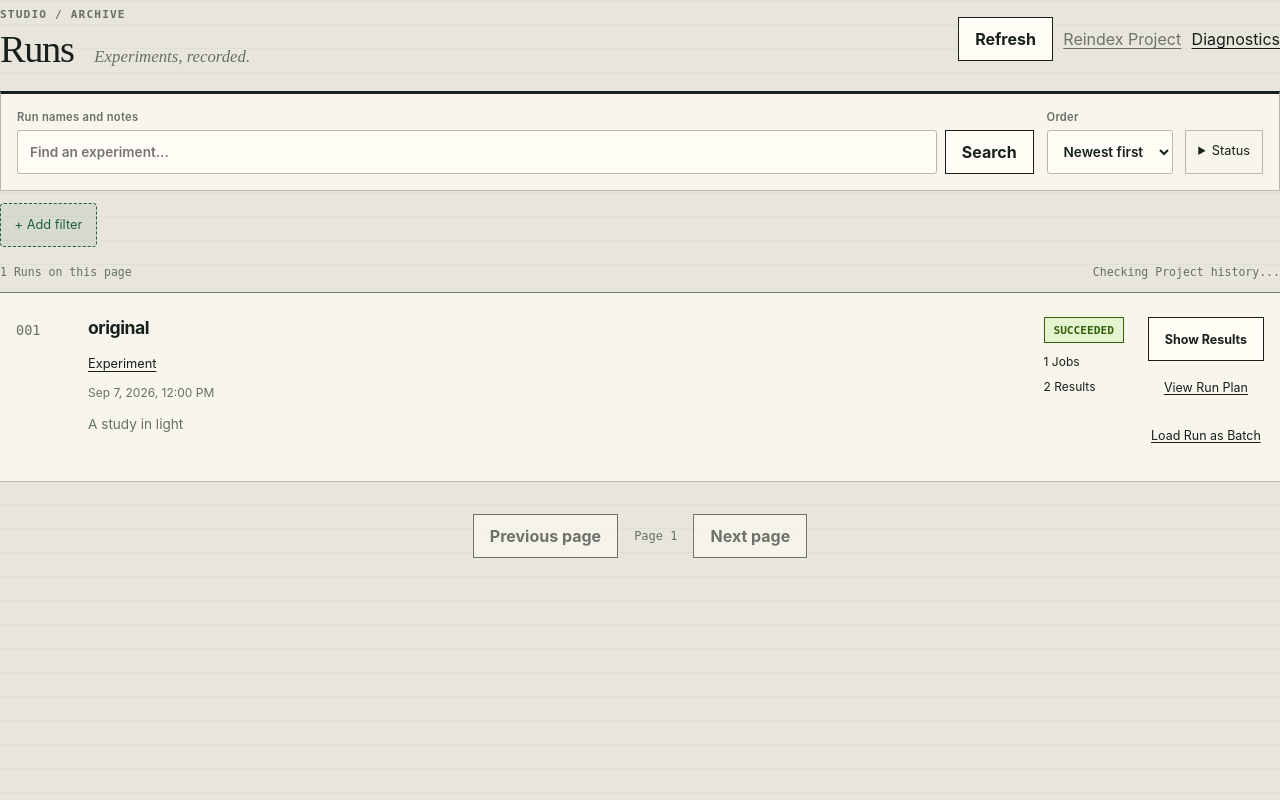
Test case: ProjectBrowser › offers an execution-independent frozen setup after runs inspection fails
This screenshot has width=1280, height=800.
Click the button "View Run Plan" at [1206, 387], box [1148,365,1264,409]
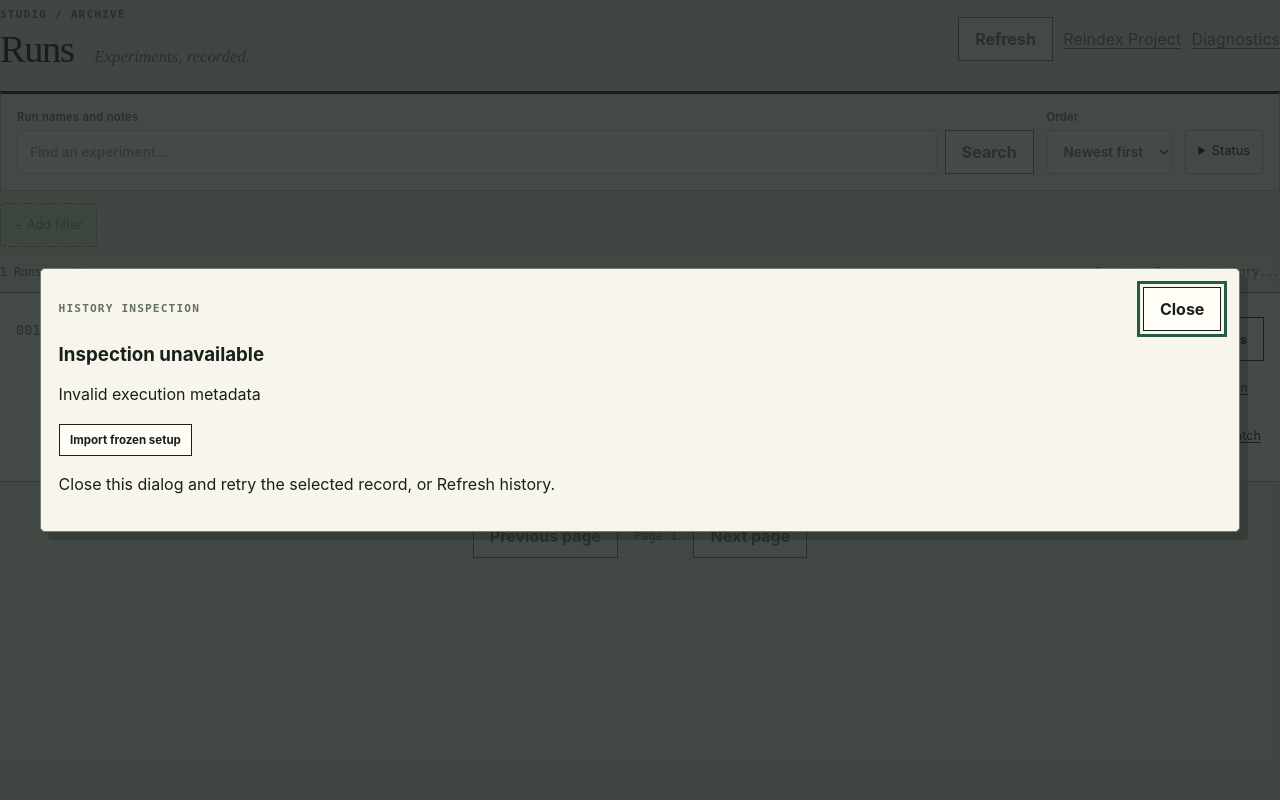
Click the button "Import frozen setup" at [125, 440], box [59,424,192,456]
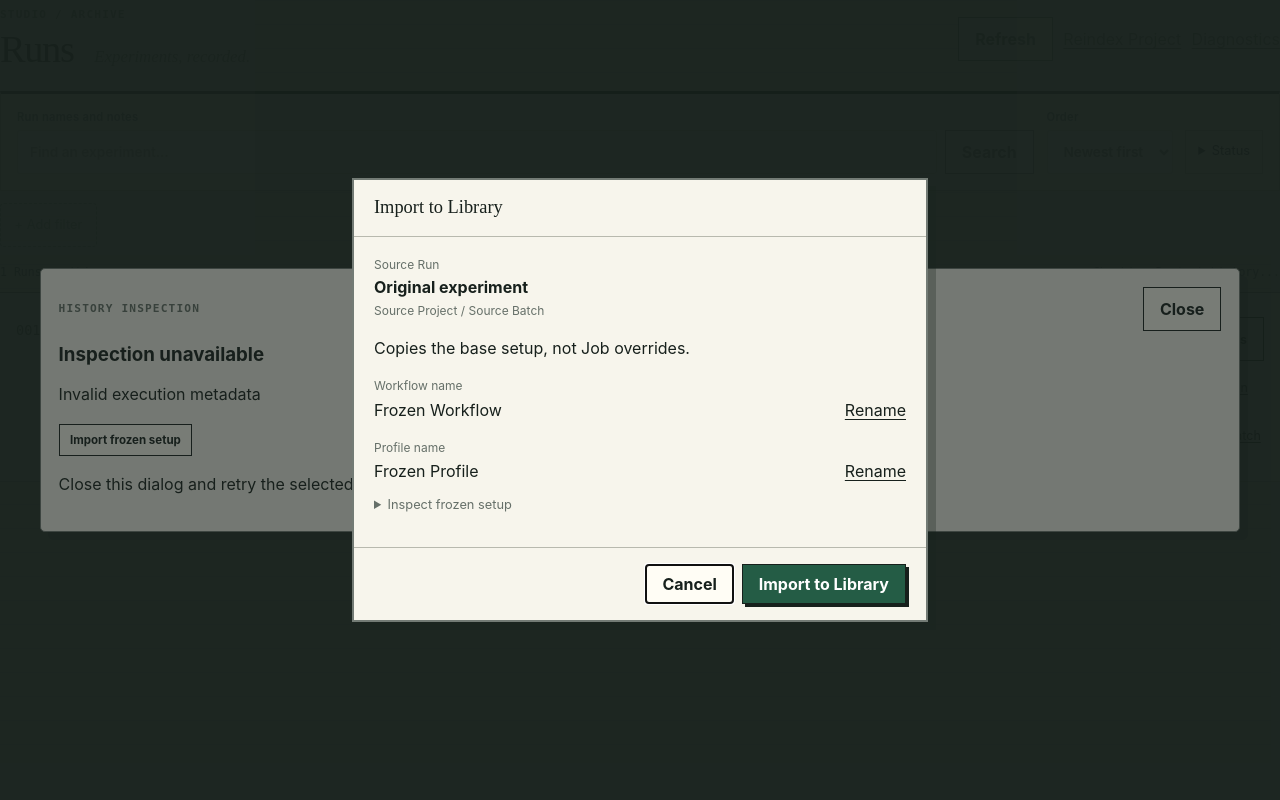
Check: the text "Frozen Workflow" is shown, box [374,400,502,420]
Click the button "Import to Library" at [824, 584], box [742,564,906,604]
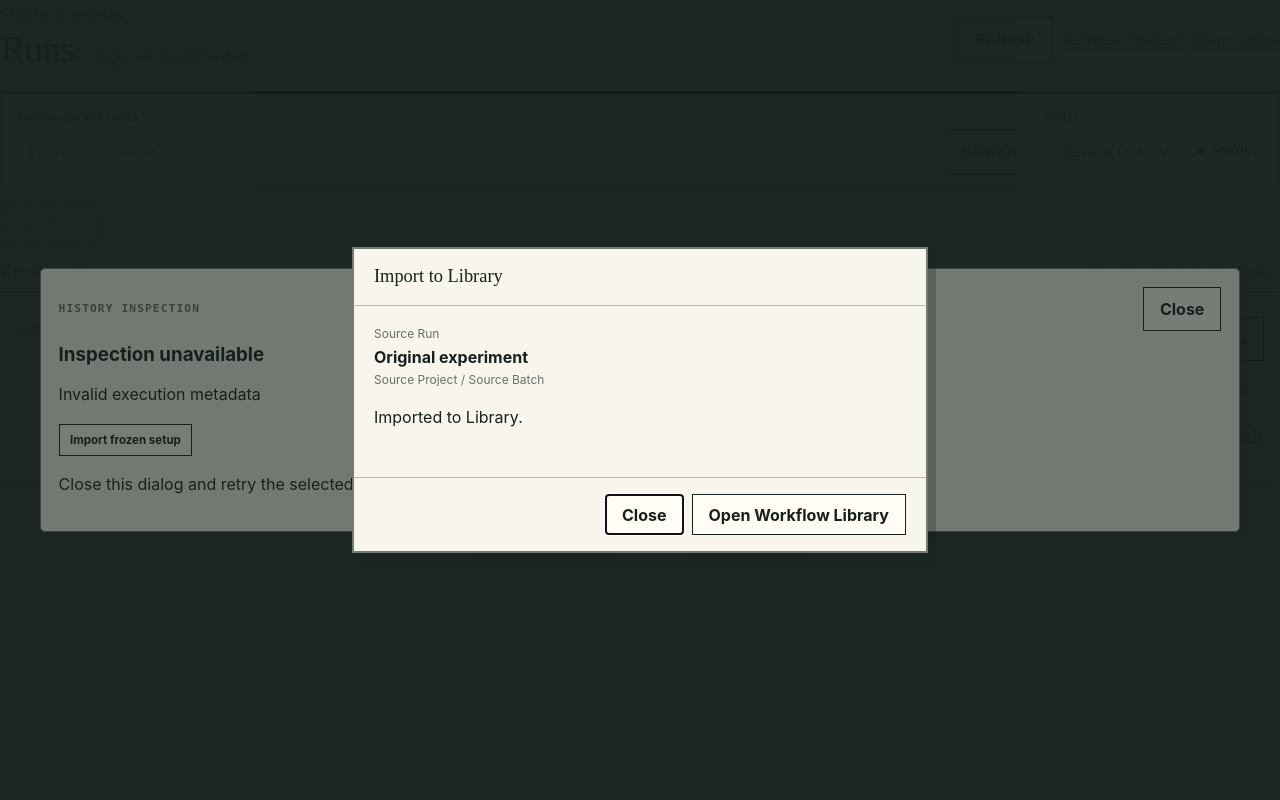
Check: the text "Imported to Library." is shown, box [374,407,523,427]
